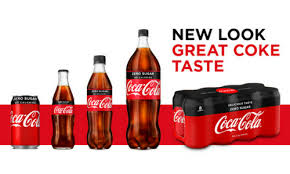coke-bottle-2l-zero: (123, 24, 165, 150)
coke-bottle-300ml: (85, 52, 115, 149)
coke-can-zero: (9, 90, 42, 153)
coke-glass: (50, 66, 77, 152)
